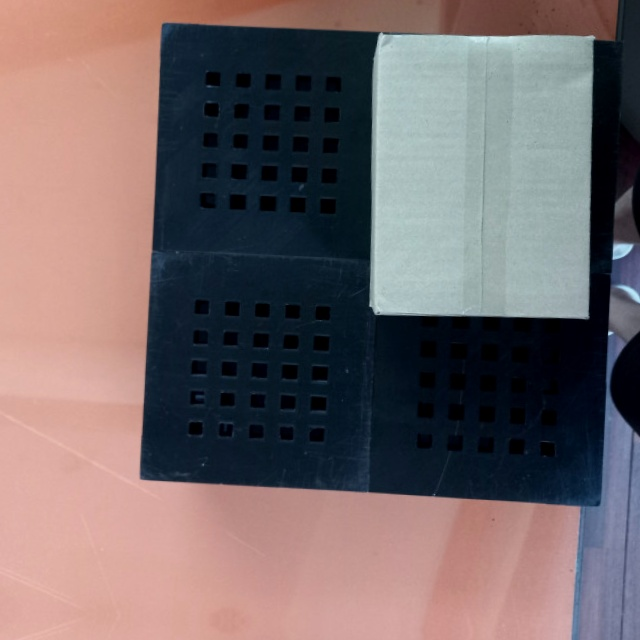box: (371, 30, 595, 322)
pallet: (133, 13, 623, 512)
